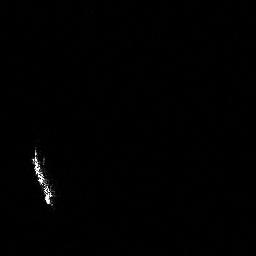ship: (28, 144, 60, 209)
